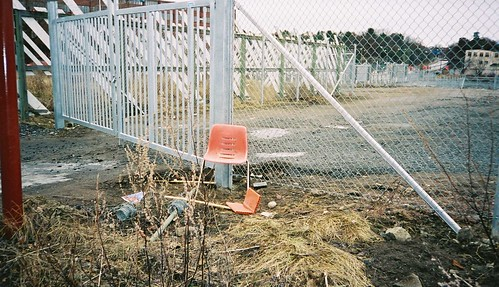building: (452, 46, 495, 81)
chair: (196, 121, 254, 203)
gate: (47, 3, 218, 164)
